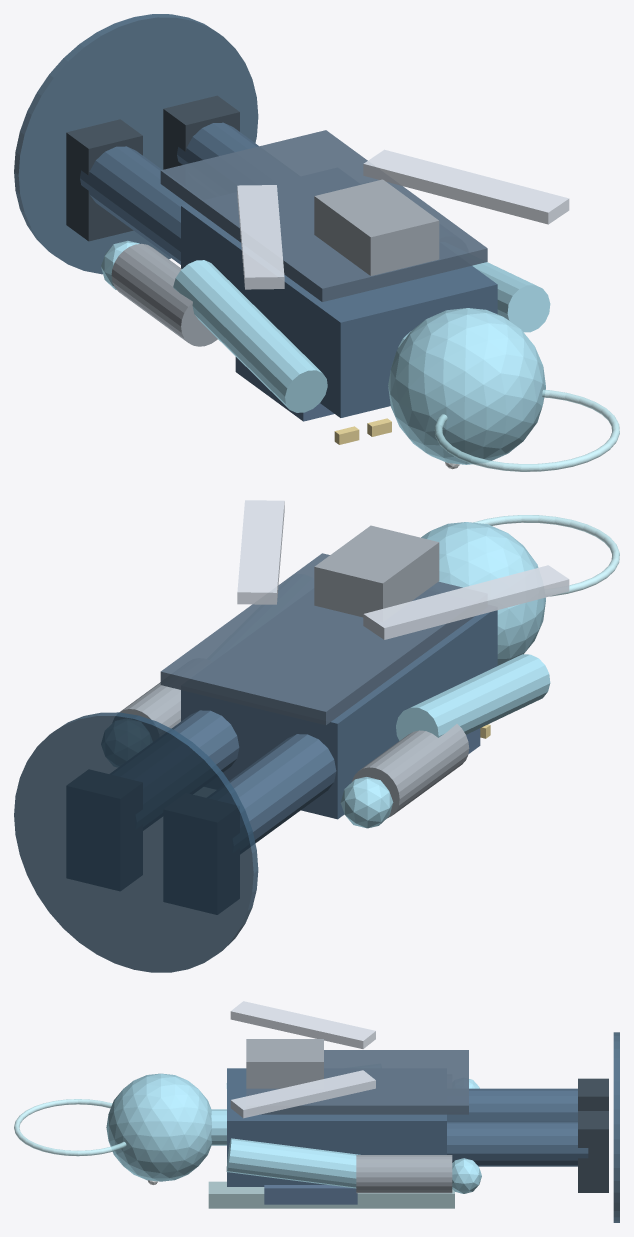
The model's file is SW_NPC_018_rava_skyrill.glb.
3 renders of one model, top to bottom at view 1: azimuth 30°, elevation 25°; view 2: azimuth 150°, elevation 25°; view 3: azimuth 270°, elevation 25°, orthographic. The views are drawn at different scales.
Parts seen in each view (by area): view 1: round_base_plate, torso_uniform, head, storm_cloak, left_upper_arm, wingpack_core, left_leg, right_wing_rig, left_forearm_gauntlet, left_boot, left_wing_rig, right_boot (+4 smaller); view 2: round_base_plate, storm_cloak, torso_uniform, wingpack_core, head, left_upper_arm, left_leg, left_wing_rig, left_forearm_gauntlet, right_wing_rig, right_leg, left_hand (+2 smaller); view 3: torso_uniform, head, storm_cloak, right_leg, right_upper_arm, left_leg, right_forearm_gauntlet, wingpack_core, rank_sash, right_wing_rig, left_wing_rig, right_boot (+6 smaller).
Boxes of the visible parts, x1,y1,x2,y2 form: round_base_plate: (14, 14, 258, 274); torso_uniform: (181, 204, 497, 417); head: (388, 308, 545, 464); storm_cloak: (160, 130, 487, 301); left_upper_arm: (173, 260, 327, 412); wingpack_core: (314, 179, 439, 275); left_leg: (80, 146, 187, 264); right_wing_rig: (363, 149, 569, 224); left_forearm_gauntlet: (111, 243, 217, 346); left_boot: (66, 119, 142, 241); left_wing_rig: (237, 185, 284, 289); right_boot: (163, 95, 239, 169); round_base_plate: (14, 712, 258, 972); storm_cloak: (160, 553, 474, 725); torso_uniform: (181, 610, 497, 819); wingpack_core: (314, 525, 439, 617); head: (421, 522, 545, 665); left_upper_arm: (396, 654, 550, 740); left_leg: (229, 734, 336, 843); left_wing_rig: (363, 565, 569, 639); left_forearm_gauntlet: (352, 724, 469, 818); right_wing_rig: (237, 500, 284, 604); right_leg: (172, 710, 239, 772); left_hand: (340, 777, 393, 828); torso_uniform: (227, 1068, 446, 1186); head: (106, 1073, 211, 1181); storm_cloak: (246, 1050, 468, 1114); right_leg: (447, 1121, 588, 1166); right_upper_arm: (226, 1138, 360, 1188); left_leg: (447, 1088, 577, 1121); right_forearm_gauntlet: (356, 1155, 452, 1193); wingpack_core: (246, 1039, 323, 1088); rank_sash: (208, 1181, 454, 1208); right_wing_rig: (230, 1070, 375, 1118); left_wing_rig: (230, 1001, 375, 1048); right_boot: (578, 1111, 608, 1192).
Bounding box in the file's own units: 1.05 × 0.7728 × 2.46.
